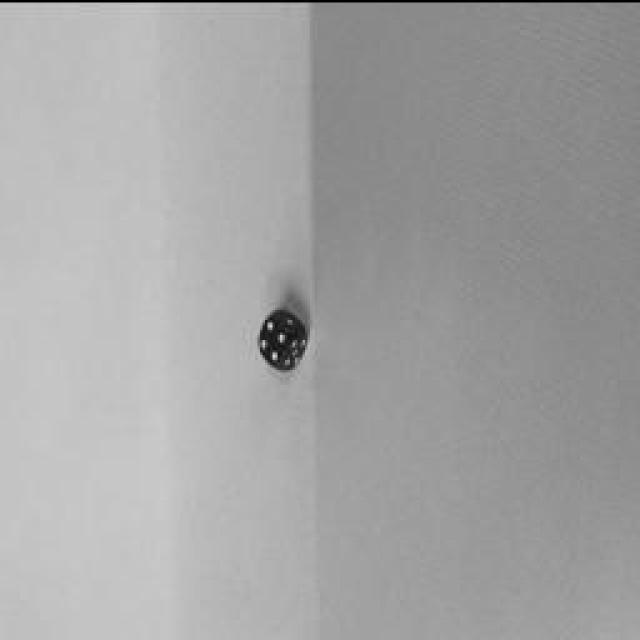dice_4: (258, 313, 288, 365)
